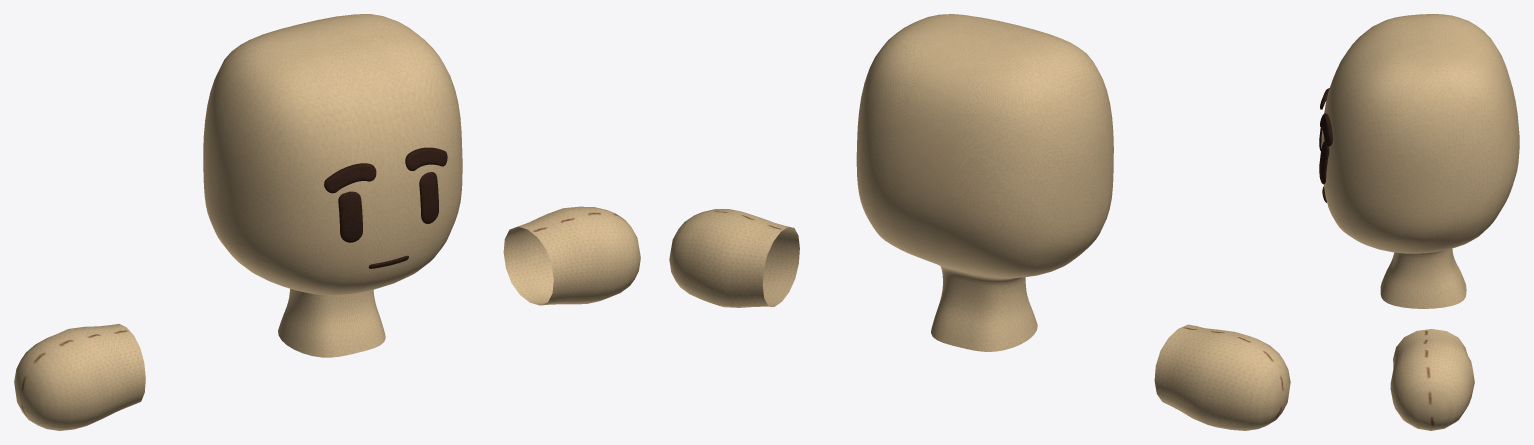
Rendered from Base_Painter.fbx.
The picture shows the model from 3 angles, left to right: view 1: azimuth 30°, elevation 25°; view 2: azimuth 150°, elevation 25°; view 3: azimuth 270°, elevation 25°; orthographic projection. The views are drawn at different scales.
Visible parts, largest first — view 1: Body, Face_Eye.R, Face_Brow.R, Face_Eye.L, Face_Brow.L; view 2: Body; view 3: Body, Face_Eye.L, Face_Brow.L.
Boxes of the visible parts, <box> form: Body: <box>14,14,640,430</box>; Face_Eye.R: <box>338,191,362,242</box>; Face_Brow.R: <box>324,163,376,193</box>; Face_Eye.L: <box>419,172,438,223</box>; Face_Brow.L: <box>405,147,447,170</box>; Body: <box>669,14,1290,430</box>; Body: <box>1321,14,1519,430</box>; Face_Eye.L: <box>1319,141,1329,184</box>; Face_Brow.L: <box>1320,113,1333,146</box>.
Bounding box in the file's own units: 254 × 130 × 84.52.
